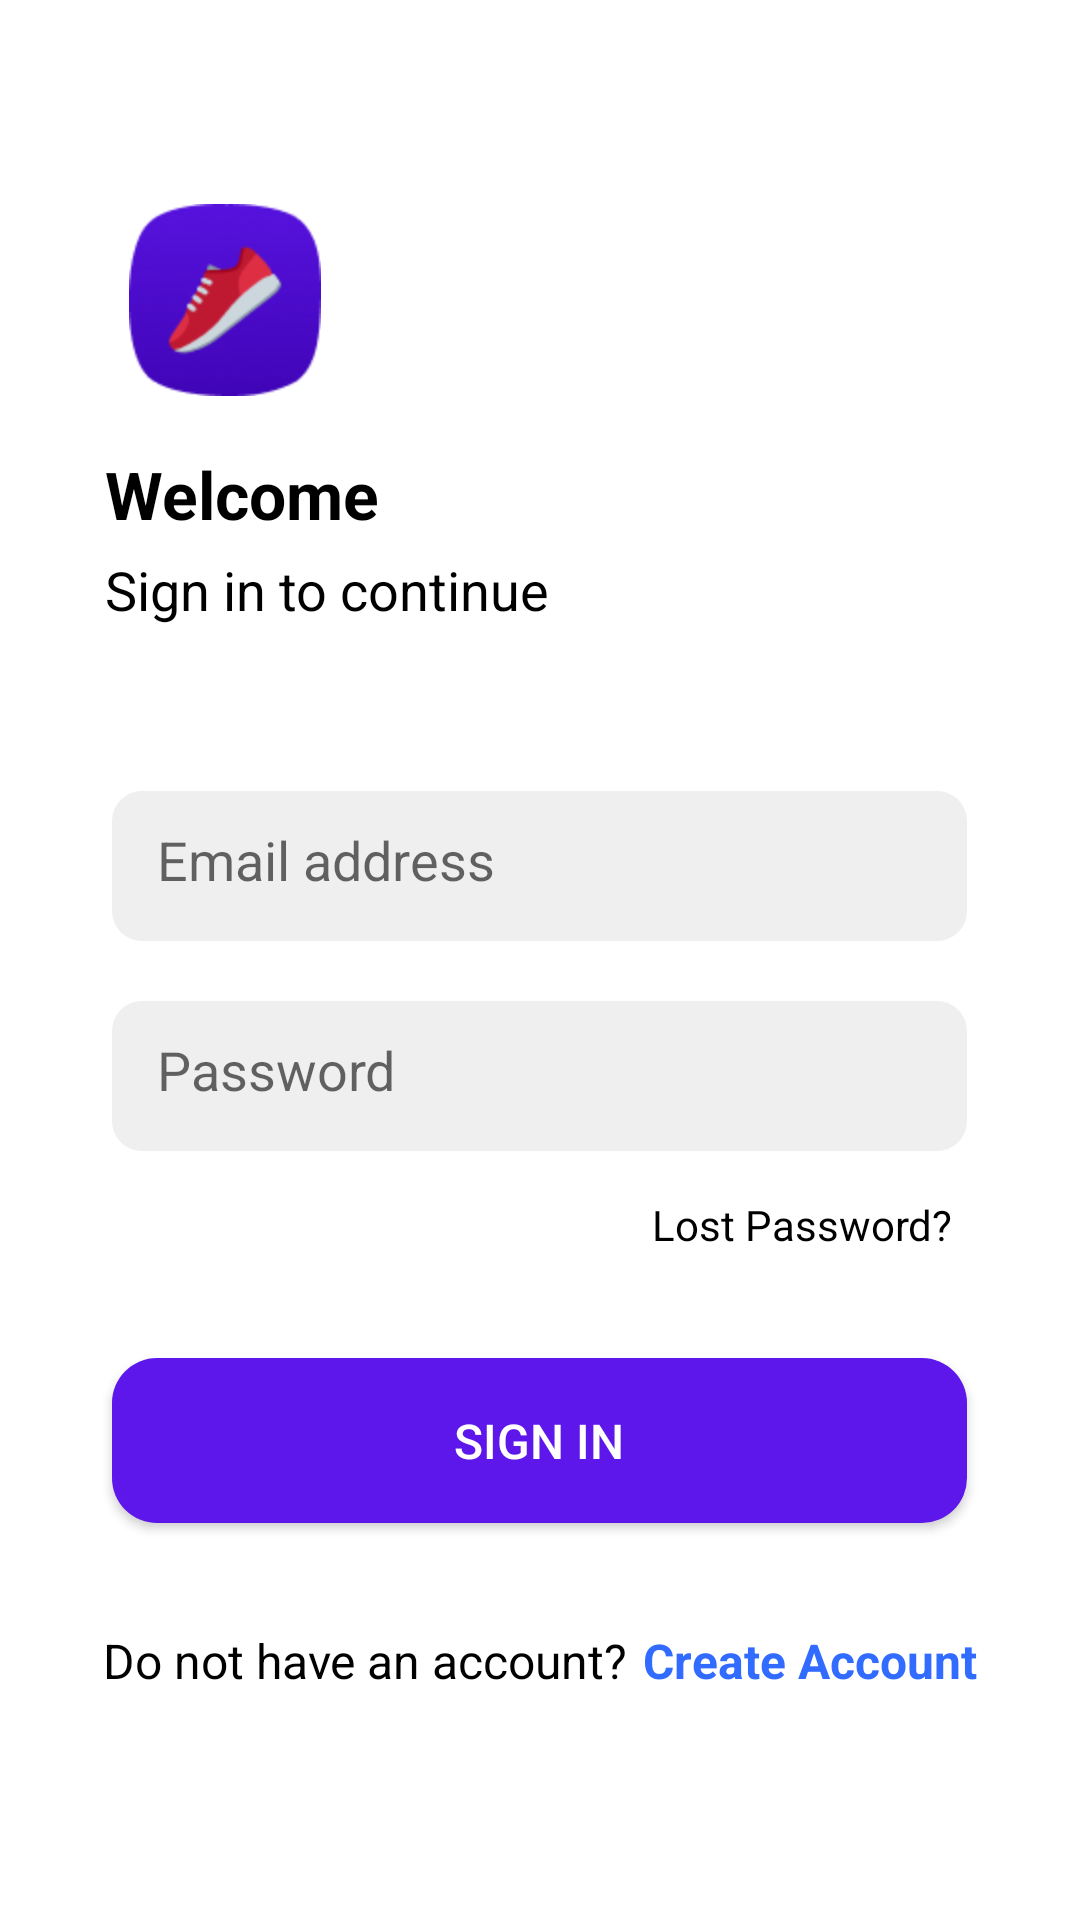

Where to tap for icons on this 1080 x 1920 app screen, as [x,y]:
thumbnail: [225,300]
